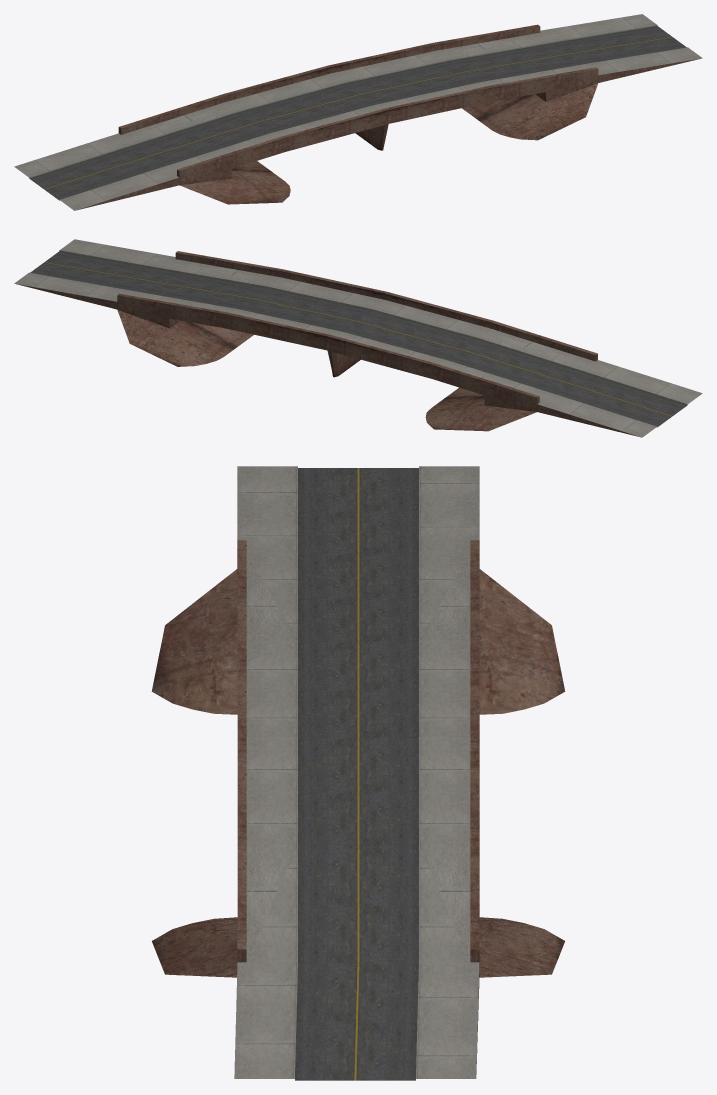
Rendered from vegasnroad055.obj.
The picture shows the model from 3 angles, top to bottom: view 1: azimuth 30°, elevation 25°; view 2: azimuth 150°, elevation 25°; view 3: azimuth 270°, elevation 25°; orthographic projection. The views are drawn at different scales.
Visible parts, largest first — view 1: VegasNroad055; view 2: VegasNroad055; view 3: VegasNroad055.
Boxes of the visible parts, bbox=[...] form: VegasNroad055: bbox=[14, 14, 702, 210]; VegasNroad055: bbox=[14, 239, 702, 437]; VegasNroad055: bbox=[151, 466, 565, 1080].
Size of the model in its own units: 120 by 8.39 by 34.18.
Materials: 3 (3 with a texture image).
